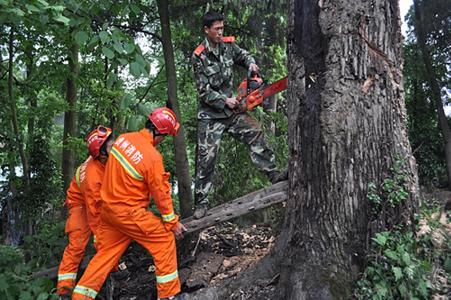person: (192, 11, 293, 220)
